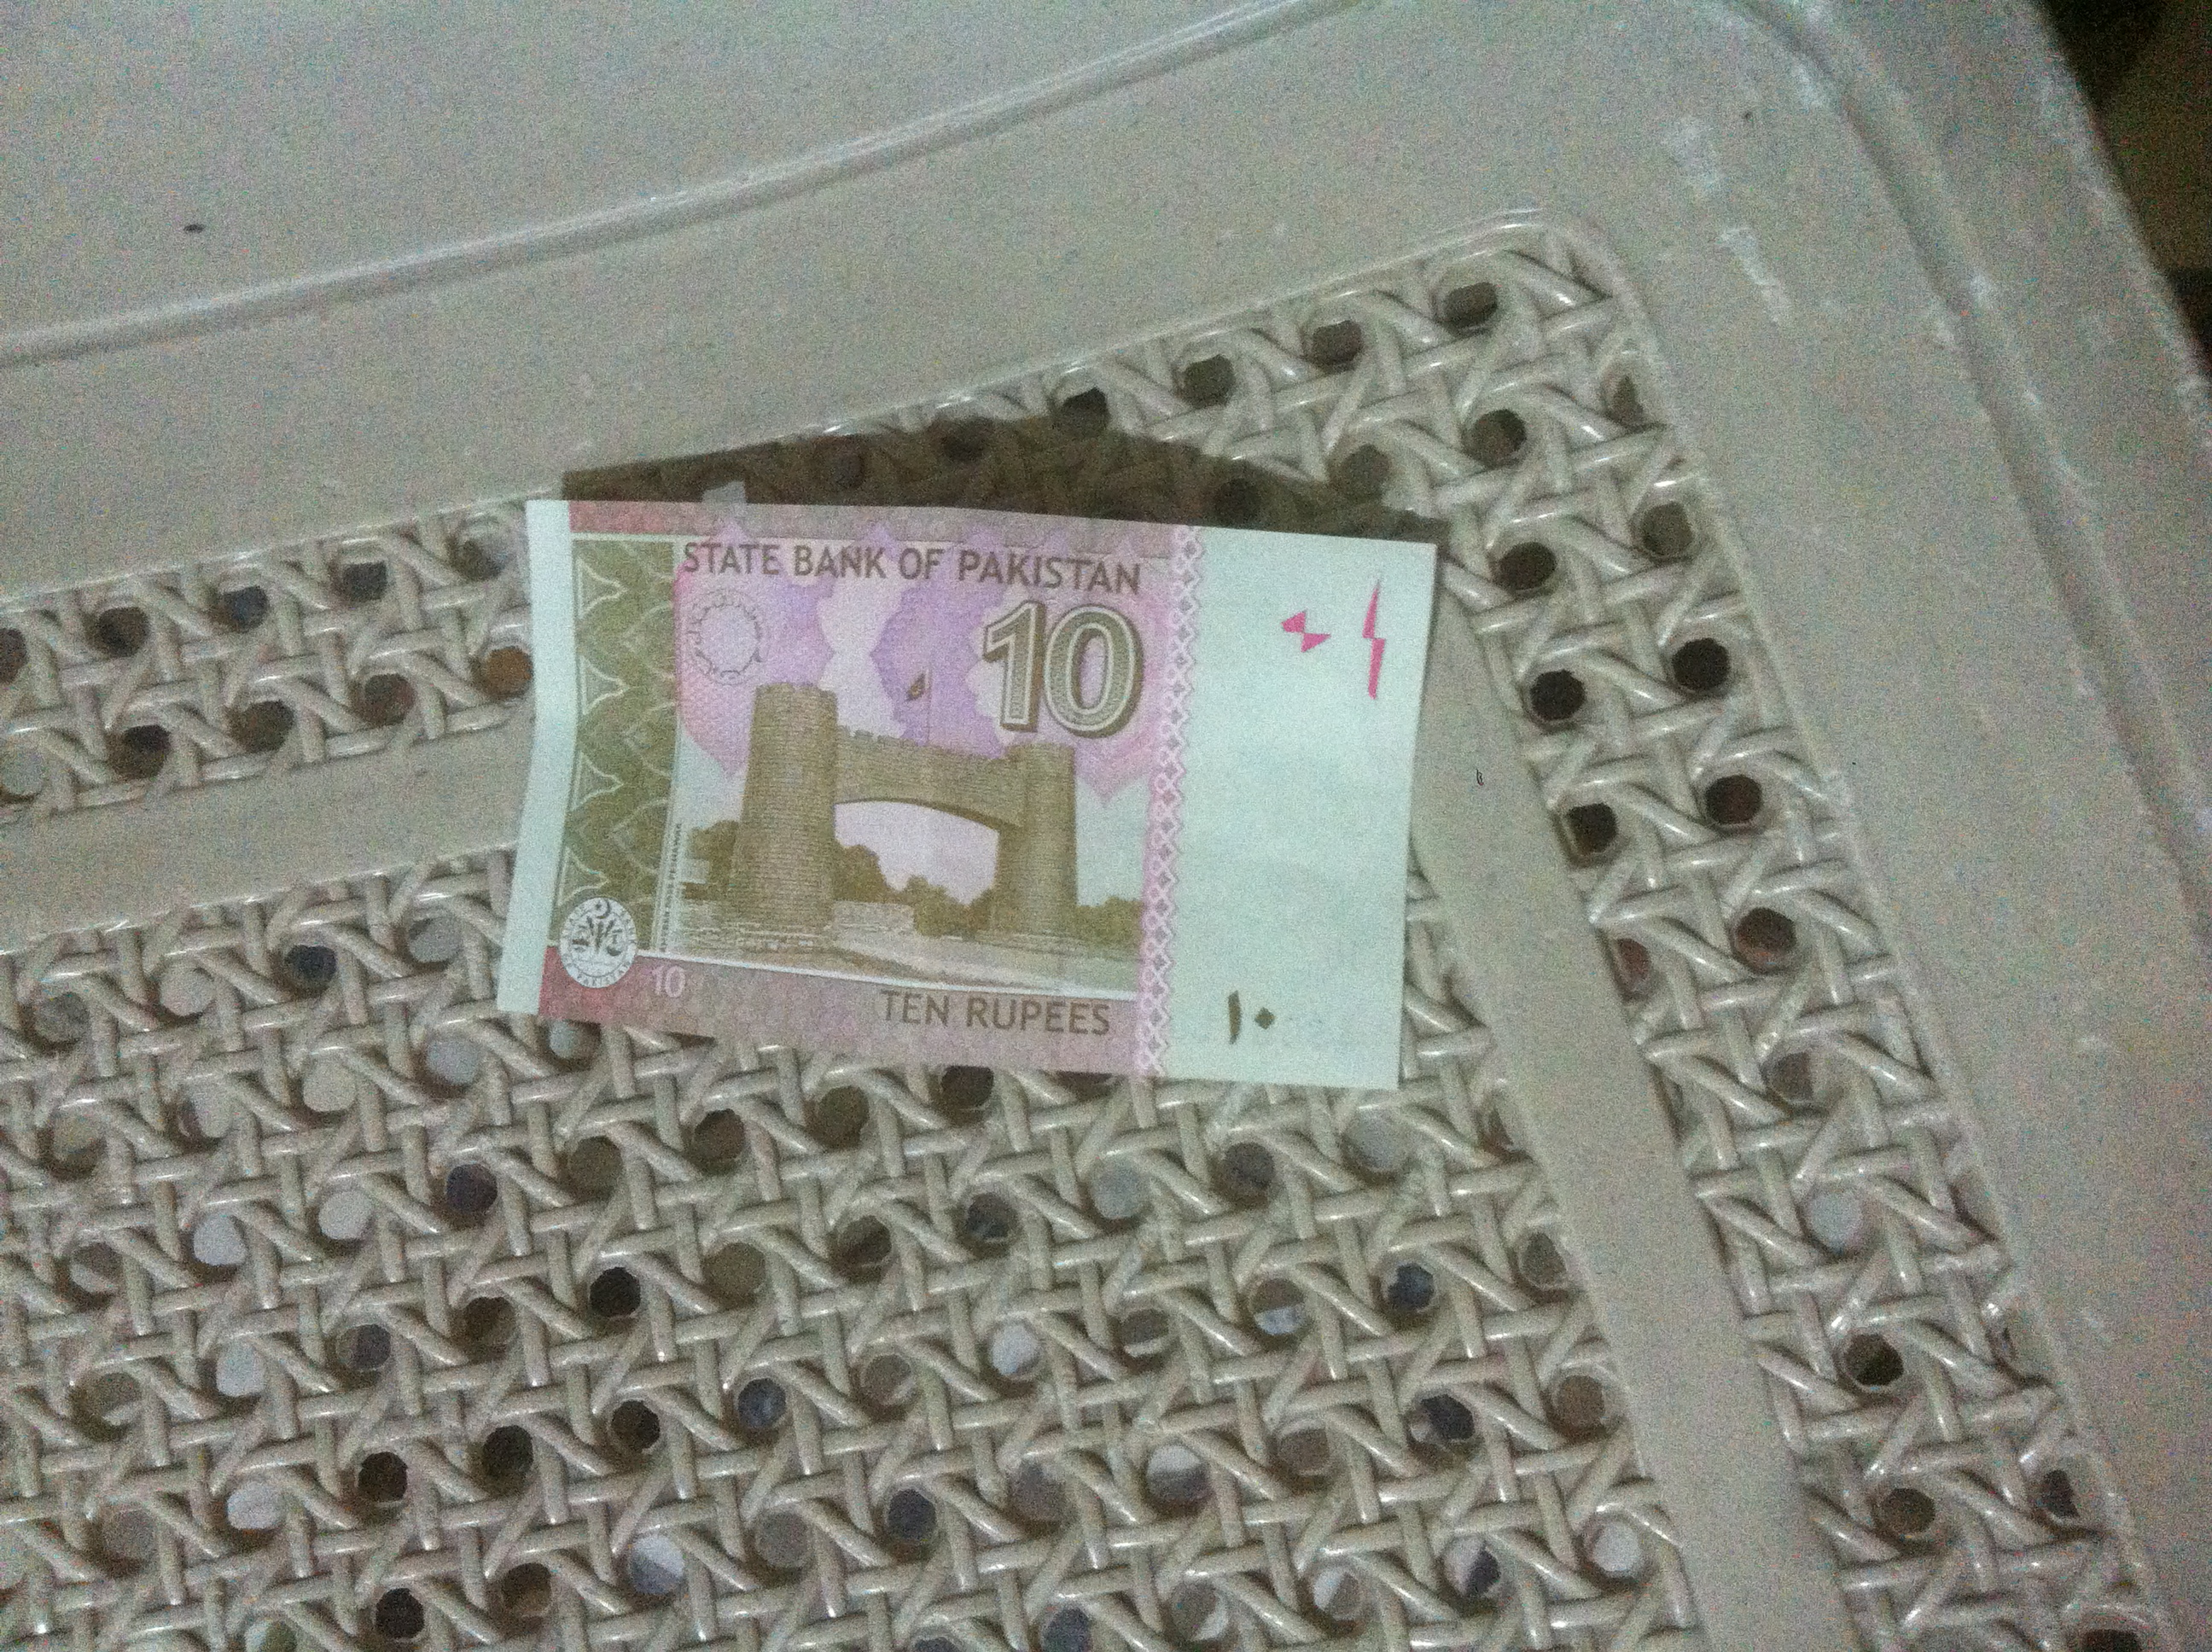10 rupee: (449, 462, 1499, 1138)
